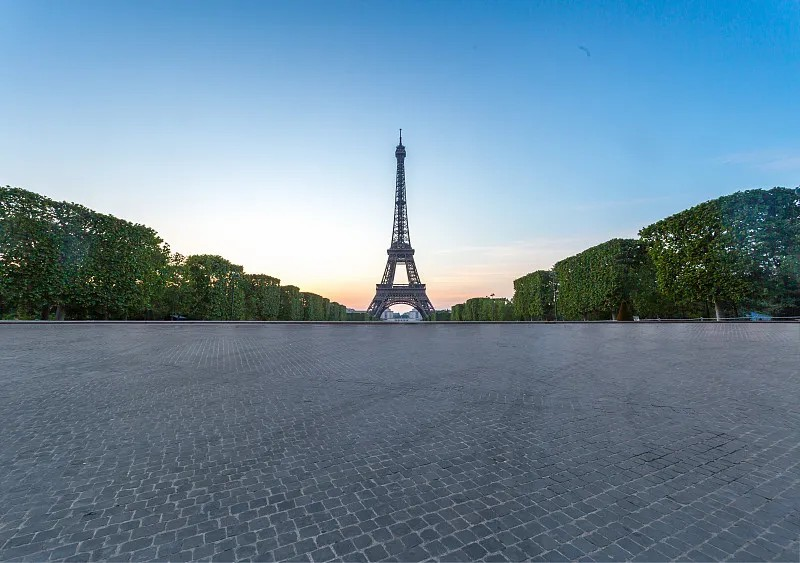Eiffel: (366, 129, 435, 321)
